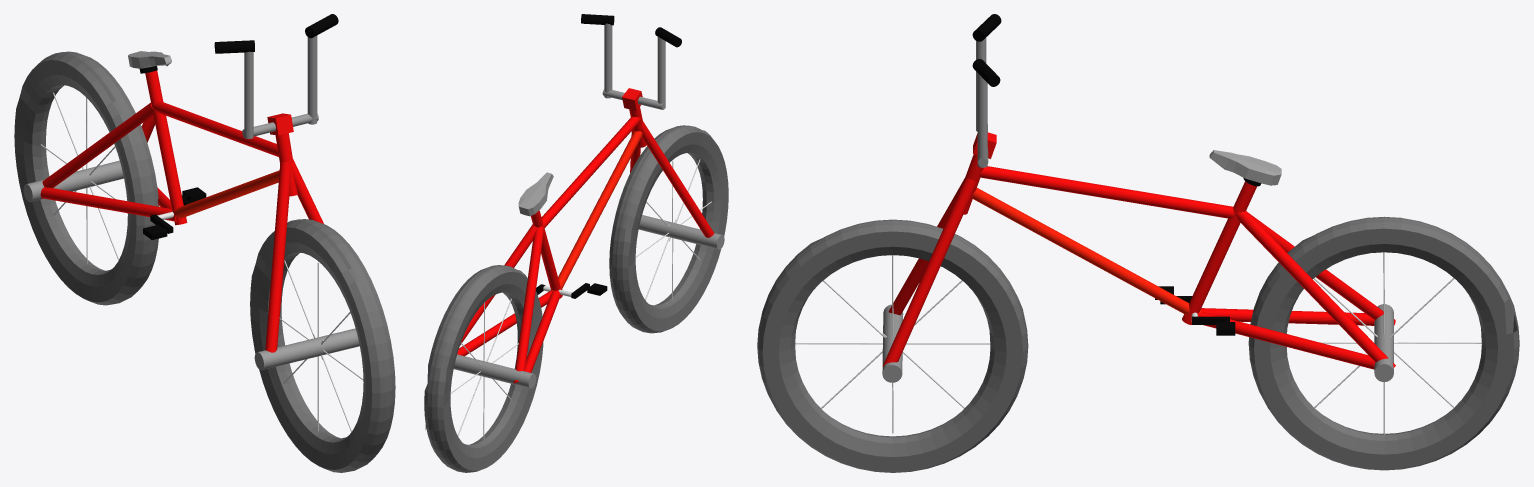
The model's file is Bicycle_Model_Animation_Forward.fbx.
3 views of the same model, side by side, from view 1: azimuth 30°, elevation 25°; view 2: azimuth 150°, elevation 25°; view 3: azimuth 270°, elevation 25° (orthographic). The views are drawn at different scales.
Parts seen in each view (by area): view 1: Tyre, Tyre.004, Cylinder.007, Wheel Connector.005, Cylinder.004, Cylinder.003, Cylinder, Cylinder.005, Wheel Connector, Cylinder.006, Cylinder.011, Cylinder.010 (+7 smaller); view 2: Tyre.004, Tyre, Cylinder.006, Cylinder.003, Cylinder.005, Cylinder.007, Wheel Connector.005, Wheel Connector, Cube, Cylinder, Cylinder.001, Cylinder.004 (+6 smaller); view 3: Tyre.004, Tyre, Cylinder.005, Cylinder.006, Cylinder.012, Cylinder.008, Cylinder.001, Cylinder.004, Cube, Cylinder, Cylinder.003, Wheel Connector (+3 smaller).
Part boxes in pixels (box(x1,y1,x2,y2)): Tyre: box(14, 51, 159, 305); Tyre.004: box(250, 219, 395, 472); Cylinder.007: box(265, 162, 290, 352); Wheel Connector.005: box(254, 328, 359, 370); Cylinder.004: box(145, 70, 187, 225); Cylinder.003: box(42, 102, 153, 187); Cylinder: box(40, 187, 178, 221); Cylinder.005: box(152, 101, 279, 156); Wheel Connector: box(23, 160, 123, 202); Cylinder.006: box(174, 170, 279, 218); Cylinder.011: box(307, 35, 317, 124); Cylinder.010: box(244, 51, 253, 138); Tyre.004: box(609, 125, 728, 333); Tyre: box(424, 265, 543, 472); Cylinder.006: box(551, 131, 642, 291); Cylinder.003: box(513, 226, 544, 383); Cylinder.005: box(541, 116, 641, 228); Cylinder.007: box(641, 121, 714, 237); Wheel Connector.005: box(638, 215, 724, 249); Wheel Connector: box(453, 354, 536, 388); Cube: box(518, 172, 553, 216); Cylinder: box(525, 289, 562, 372); Cylinder.001: box(457, 289, 562, 356); Cylinder.004: box(530, 210, 562, 298); Tyre.004: box(757, 219, 1028, 472); Tyre: box(1248, 216, 1519, 470); Cylinder.005: box(980, 166, 1234, 218); Cylinder.006: box(972, 188, 1201, 314); Cylinder.012: box(1236, 211, 1395, 367); Cylinder.008: box(882, 178, 975, 366); Cylinder.001: box(1184, 312, 1375, 369); Cylinder.004: box(1182, 181, 1256, 324); Cube: box(1209, 150, 1281, 185); Cylinder: box(1201, 308, 1374, 325); Cylinder.003: box(1249, 213, 1395, 325); Wheel Connector: box(1374, 304, 1393, 381).
Size of the model in its own units: 122 by 374 by 606.
